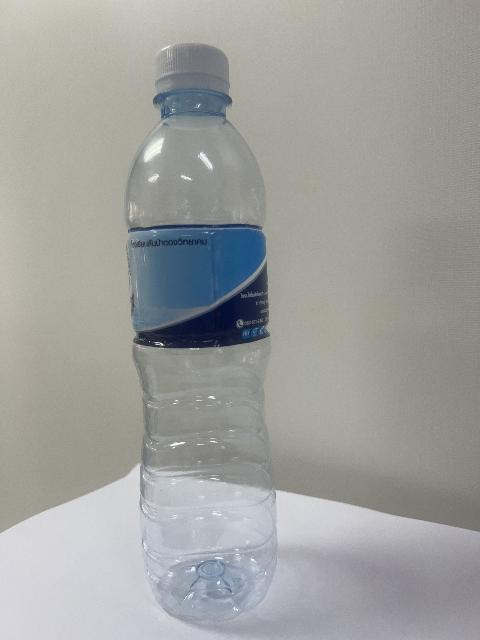bottle: (125, 43, 277, 622)
